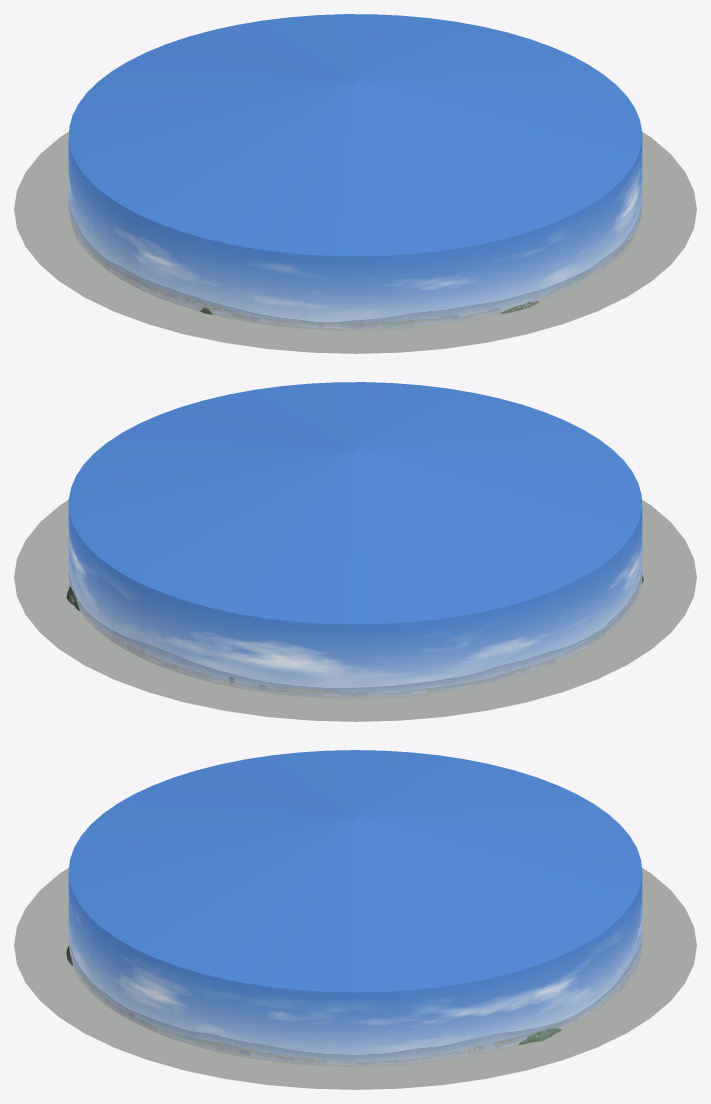
Rendered from cidade_distante.gltf.
The picture shows the model from 3 angles, top to bottom: view 1: azimuth 30°, elevation 25°; view 2: azimuth 150°, elevation 25°; view 3: azimuth 270°, elevation 25°; orthographic projection.
Parts seen in each view (by area): view 1: Distante_Panorama_Cidade, Distante_Chao_Cidade; view 2: Distante_Panorama_Cidade, Distante_Chao_Cidade; view 3: Distante_Panorama_Cidade, Distante_Chao_Cidade.
Part boxes in pixels (x1,y1,x2,y2): Distante_Panorama_Cidade: (68,14,642,330); Distante_Chao_Cidade: (14,132,696,353); Distante_Panorama_Cidade: (68,382,642,698); Distante_Chao_Cidade: (14,500,696,721); Distante_Panorama_Cidade: (68,750,642,1066); Distante_Chao_Cidade: (14,868,696,1089).
Size of the model in its own units: 2500 by 643 by 2500.
Materials: 3 (2 with a texture image).
